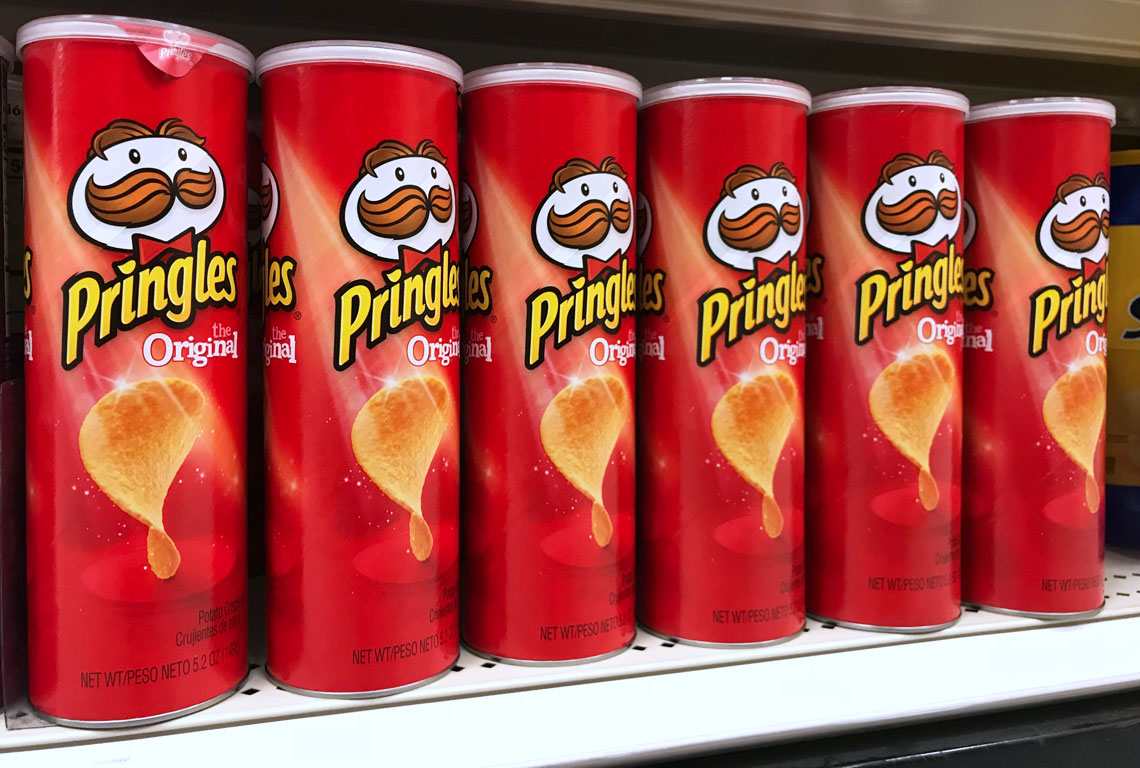pringle: (12, 13, 254, 731), (261, 21, 457, 688), (466, 32, 641, 664), (648, 64, 809, 651), (820, 84, 966, 637), (973, 96, 1115, 618)
